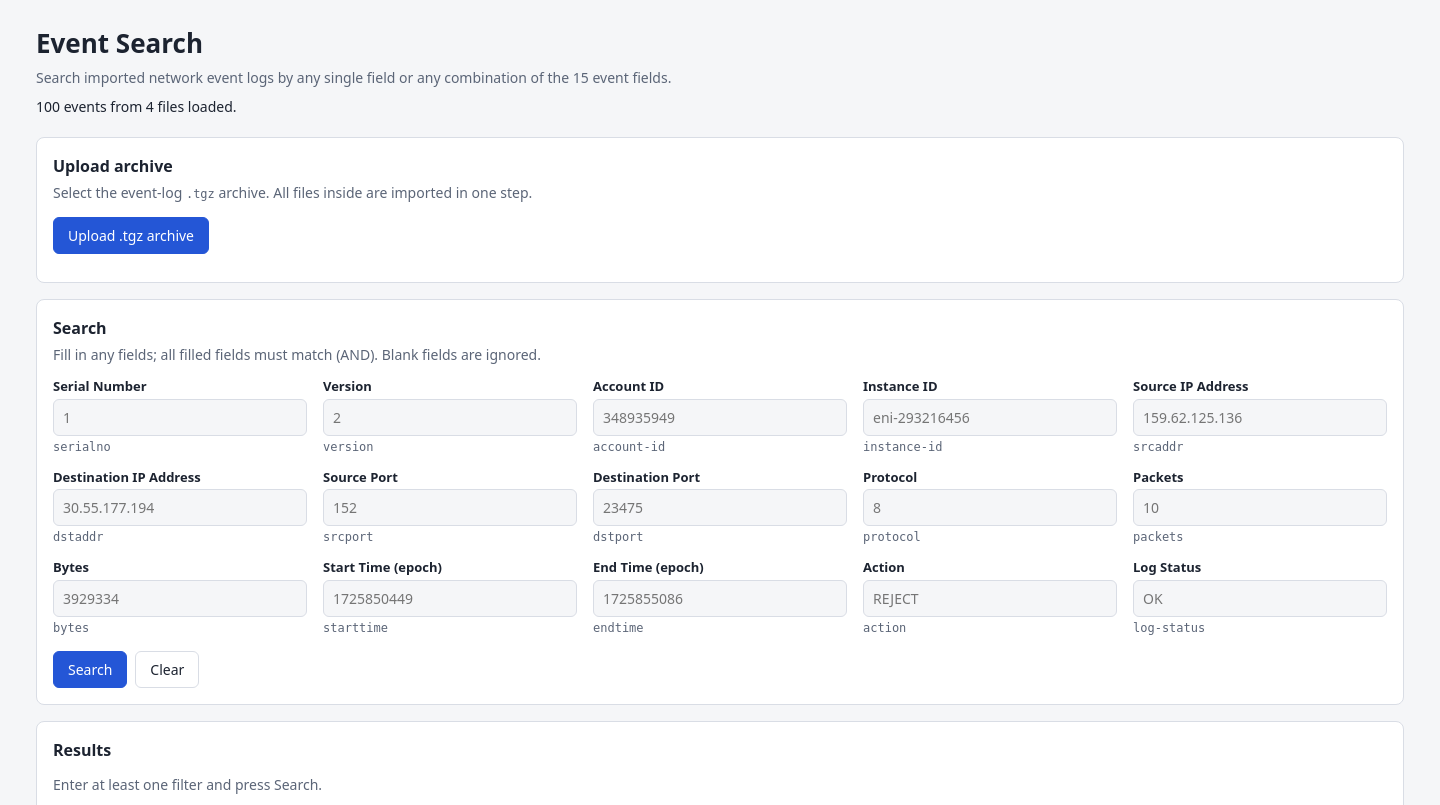
Scenario: results › shows API errors and field errors from the server
Type "1.2.3.4" into the field labelled "Source IP Address". click: {"x": 1260, "y": 417}
box: [1133,398,1387,436]
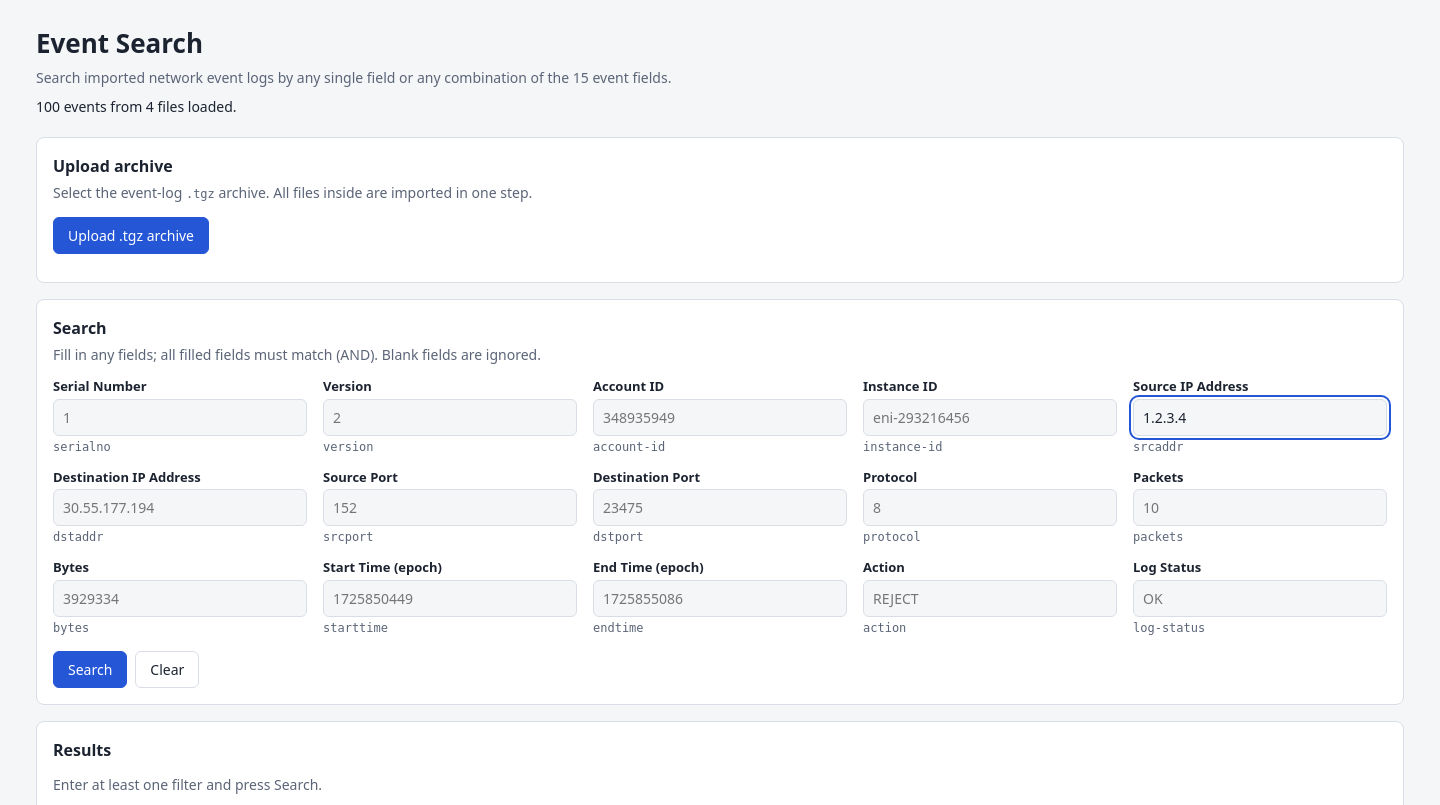
Click the button "Search". click: {"x": 90, "y": 669}
box: [53,650,127,688]
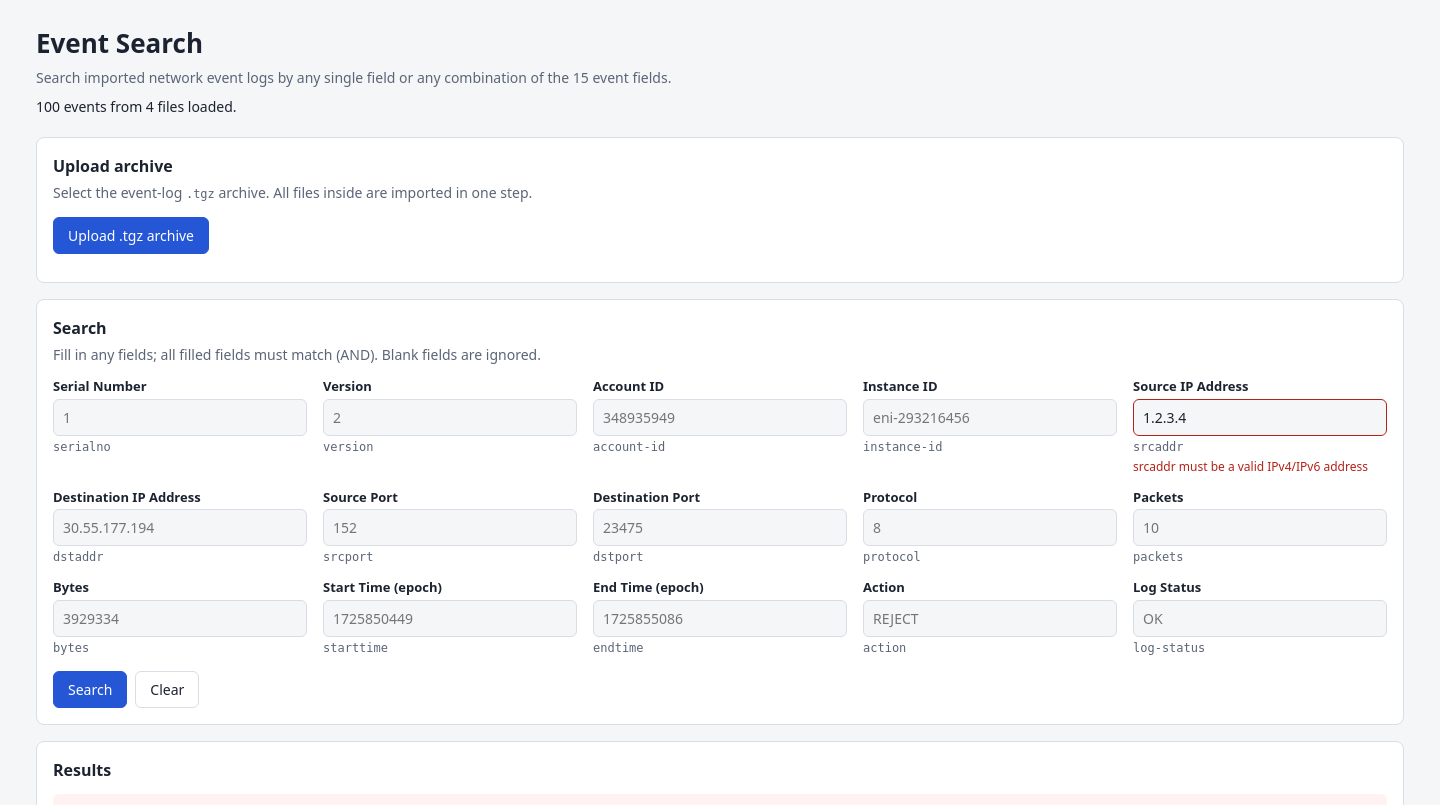
Check: the text "srcaddr must be a valid IPv4/IPv6 address" is shown, box [1133,458,1387,476]
